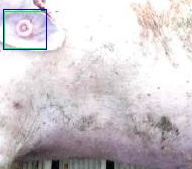text: (4, 11, 46, 48)
